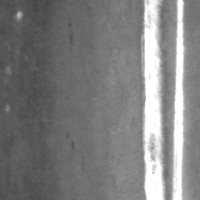inclusion: (64, 19, 77, 48)
scratches: (139, 0, 167, 199), (171, 0, 186, 199)
